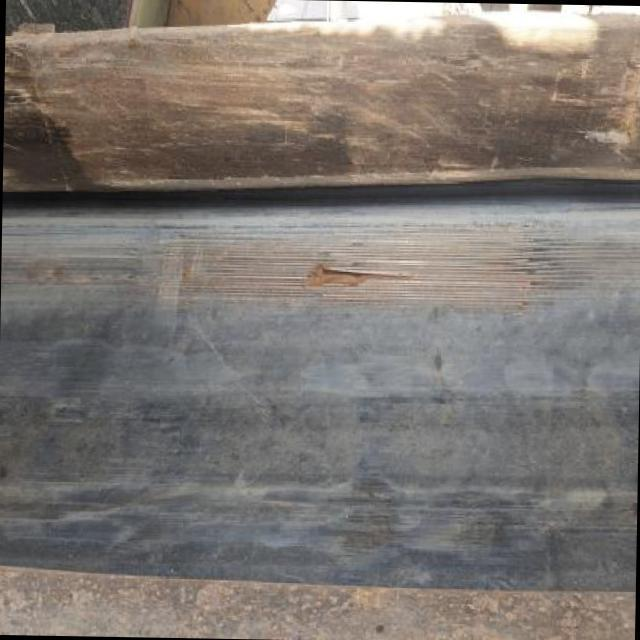Wear: (0, 222, 640, 316)
